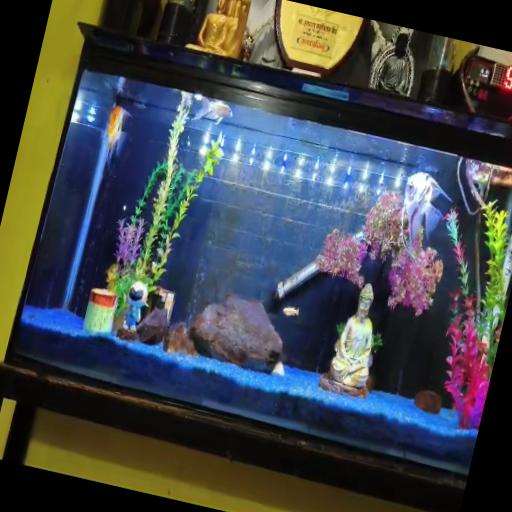Fish: (401, 173, 451, 257), (106, 106, 131, 164), (192, 97, 232, 125), (283, 307, 299, 316)
